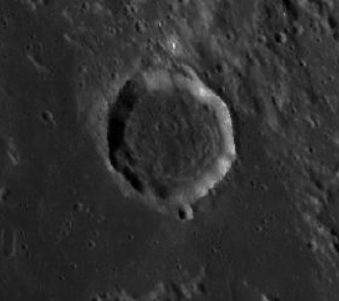crater: (70, 45, 275, 249)
